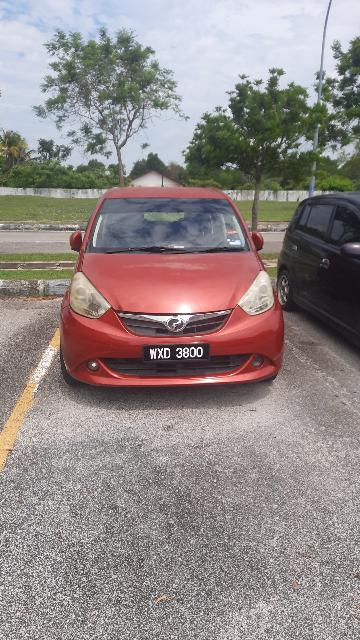License_Plate: (142, 342, 215, 365)
car: (56, 184, 289, 401)
